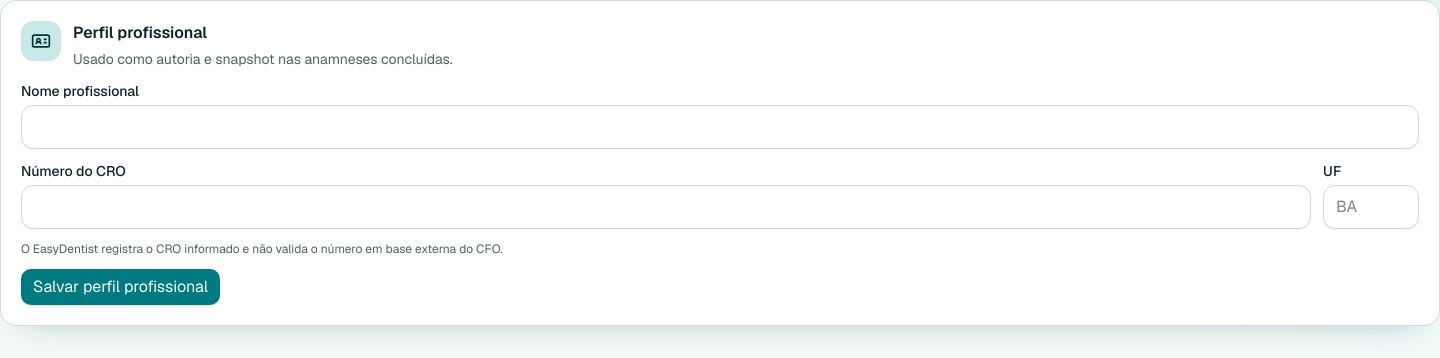
it: ProfessionalProfileCard › saves the profile and reports it to the caller
This screenshot has width=1440, height=358.
Type "Dr. Bruno Lima" into the field labelled "Nome profissional" at (720, 127), box [21,105,1419,149]
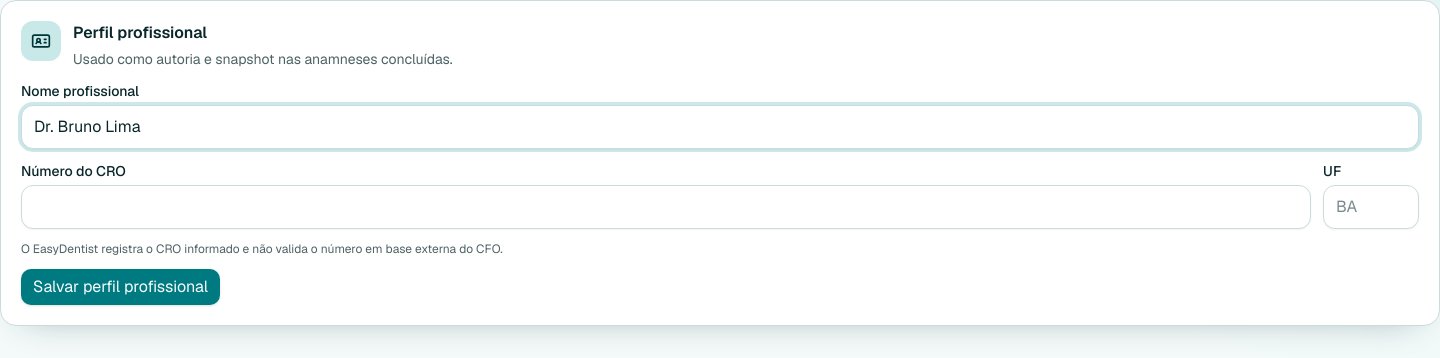
Type "98765" into the field labelled "Número do CRO" at (666, 207), box [21,185,1311,229]
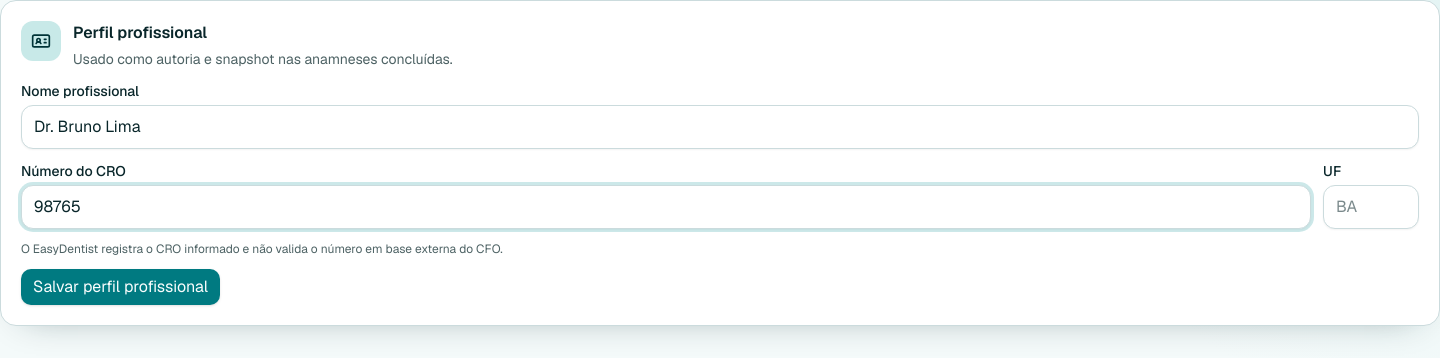
Type "pe" into the field labelled "UF" at (1371, 207), box [1323,185,1419,229]
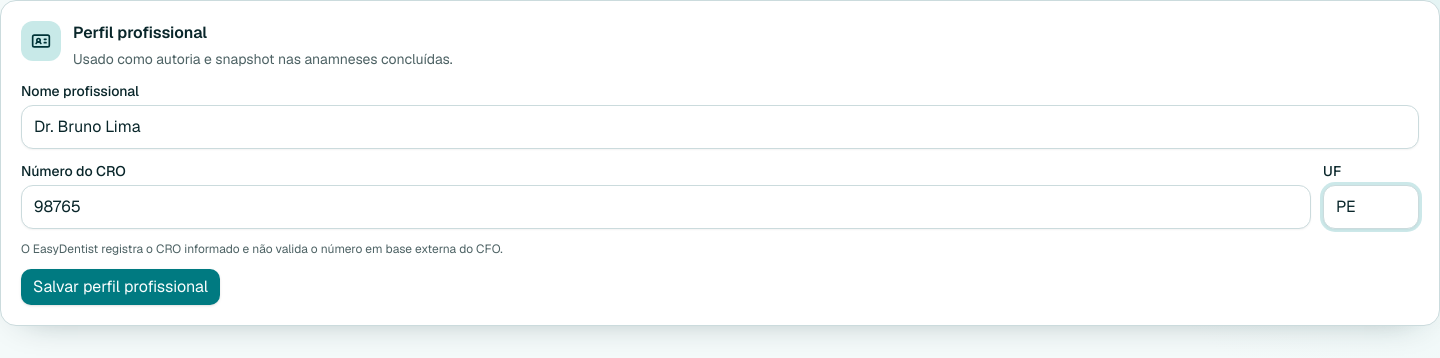
Click the button "Salvar perfil profissional" at (120, 287), box [21,269,220,305]
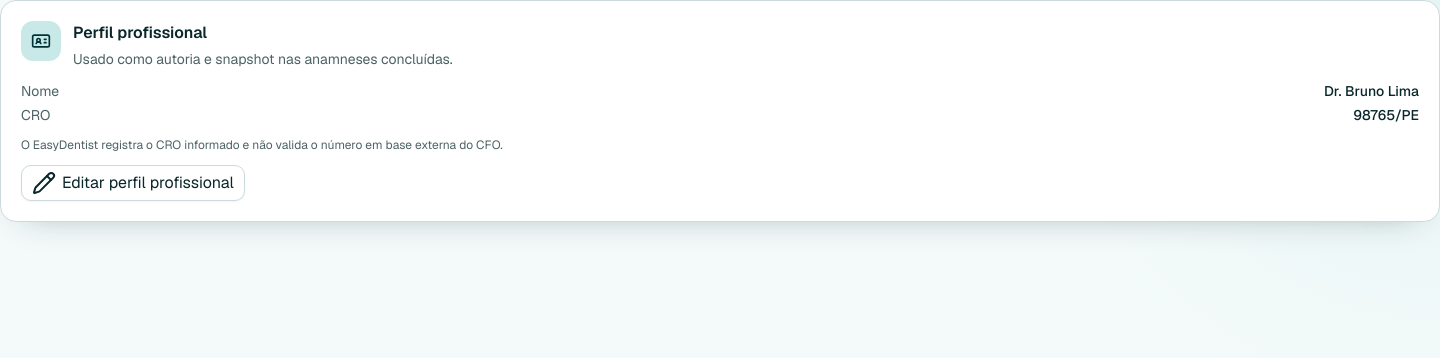
Expected: the text "Dr. Bruno Lima" is shown, [1324,81,1419,101]
